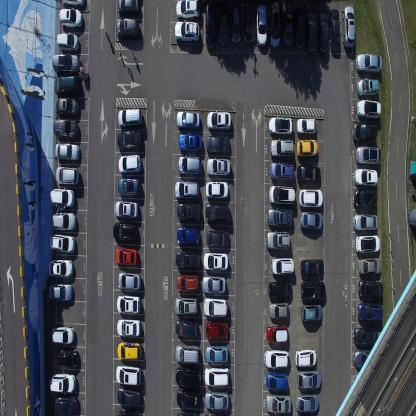car: (202, 295, 228, 319), (49, 371, 77, 393), (206, 109, 231, 133), (174, 21, 200, 44), (356, 52, 382, 75), (353, 348, 380, 370), (49, 232, 76, 254), (267, 206, 294, 228), (342, 5, 355, 50), (51, 54, 80, 74), (204, 364, 229, 387), (266, 392, 291, 415), (357, 301, 383, 323), (58, 8, 84, 30), (52, 118, 78, 140), (115, 293, 141, 315), (116, 129, 142, 151), (300, 279, 326, 301), (269, 185, 295, 207), (115, 364, 142, 385), (263, 349, 290, 370), (268, 2, 280, 48), (356, 99, 381, 121), (353, 122, 378, 144), (117, 176, 142, 198), (178, 132, 203, 154), (174, 178, 199, 200), (55, 141, 81, 162), (54, 165, 80, 186), (175, 365, 201, 386), (112, 221, 138, 242), (203, 251, 229, 272), (269, 161, 295, 182), (205, 3, 216, 51), (176, 386, 200, 408), (117, 385, 141, 407), (205, 203, 229, 225), (297, 368, 321, 390), (297, 164, 321, 186), (353, 326, 378, 347), (54, 97, 79, 118), (54, 394, 79, 415), (114, 198, 139, 219), (117, 107, 142, 128), (177, 156, 202, 177), (176, 201, 201, 222), (174, 295, 199, 316), (298, 187, 323, 208), (268, 115, 293, 136), (204, 390, 230, 410), (175, 250, 201, 270), (230, 0, 241, 46), (118, 152, 141, 174), (207, 156, 230, 178), (296, 391, 318, 414), (356, 76, 380, 97), (354, 187, 378, 208), (115, 17, 139, 38), (50, 187, 74, 208), (117, 340, 141, 361), (176, 109, 200, 130), (206, 133, 230, 154), (206, 228, 230, 249), (300, 258, 324, 279), (266, 230, 290, 251), (175, 0, 200, 20), (356, 146, 381, 166), (353, 212, 378, 232), (50, 325, 75, 345), (175, 343, 200, 363), (269, 138, 294, 158), (282, 3, 293, 48), (358, 279, 384, 298), (54, 76, 80, 95), (51, 211, 77, 230), (48, 258, 74, 277), (48, 282, 74, 301), (256, 3, 267, 47), (265, 370, 287, 392), (266, 323, 288, 345), (300, 209, 322, 231), (296, 137, 318, 159), (115, 246, 138, 267), (354, 166, 378, 186), (356, 234, 380, 254), (358, 257, 382, 277), (56, 32, 80, 52), (118, 271, 142, 291), (205, 180, 229, 200), (176, 226, 200, 246), (202, 274, 226, 294), (268, 280, 292, 300), (116, 318, 141, 337), (306, 11, 317, 53), (318, 12, 329, 54), (205, 320, 228, 340), (176, 273, 199, 293), (218, 2, 228, 47), (330, 8, 340, 53), (57, 348, 79, 368), (175, 319, 197, 339), (295, 348, 317, 368), (300, 303, 322, 323), (205, 344, 228, 363), (271, 257, 294, 276), (294, 5, 304, 48), (244, 2, 254, 44), (296, 116, 316, 136), (269, 301, 289, 320), (117, 0, 139, 15), (117, 408, 142, 416), (176, 408, 200, 416), (61, 0, 84, 8)
